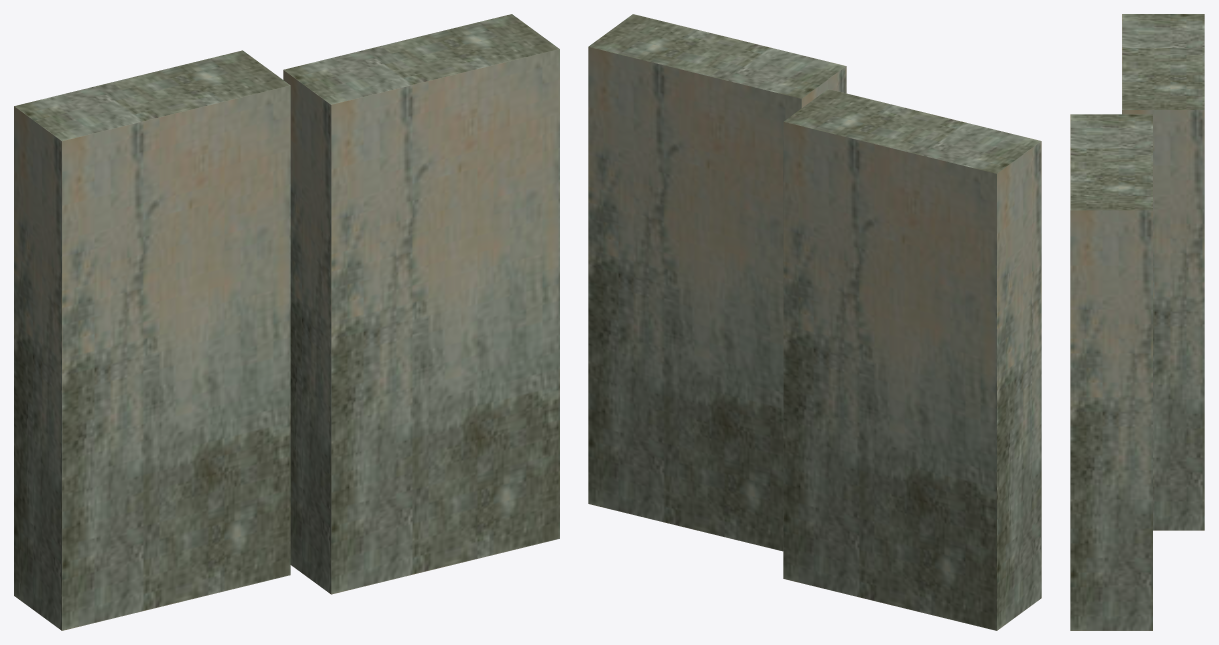
Rendered from bunker_door_concrete.glb.
3 views of the same model, side by side, from view 1: azimuth 30°, elevation 25°; view 2: azimuth 150°, elevation 25°; view 3: azimuth 270°, elevation 25° (orthographic). The views are drawn at different scales.
Visible parts, largest first — view 1: bunker_door; view 2: bunker_door; view 3: bunker_door.
Boxes of the visible parts, x1,y1,x2,y2 form: bunker_door: (14,14,559,630); bunker_door: (588,14,1041,630); bunker_door: (1070,14,1204,630).
Bounding box in the file's own units: 0.9 × 0.9 × 0.26.
1 material, 1 textured.
